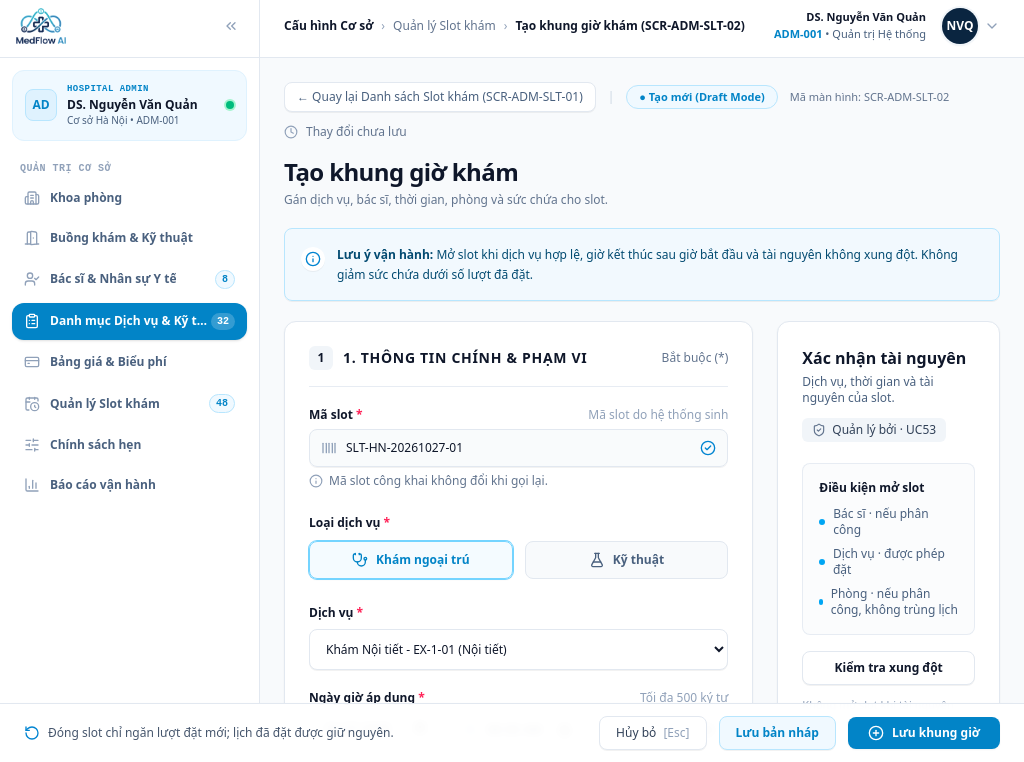
ExaminationSlotCreatePage (SCR-ADM-SLT-02) › detects doctor schedule conflict when doctor already has slot at overlapping time
This screenshot has width=1024, height=762.
Click the button "Kiểm tra xung đột" at (889, 668), box [802,651,975,685]
(page scrolled)
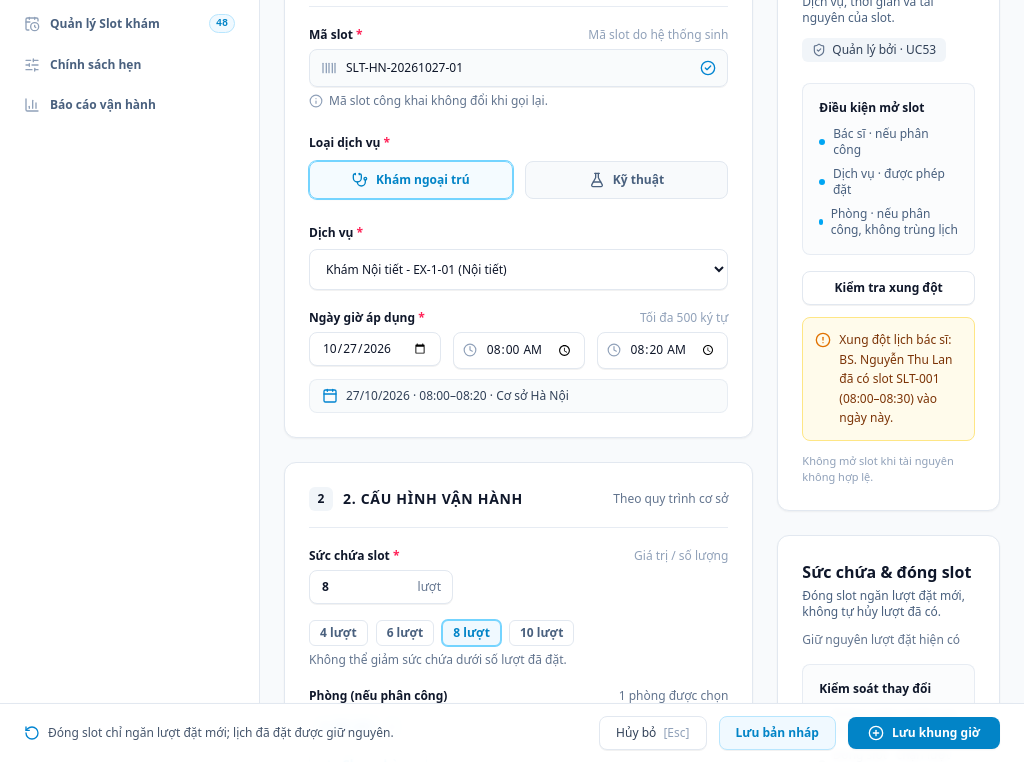
Expected: the text "Xung đột lịch bác sĩ: BS. Nguyễn Thu Lan đã có slot" is shown, [839,331,952,426]
